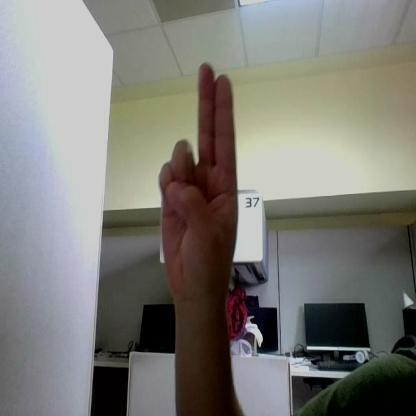U: (160, 64, 237, 285)
